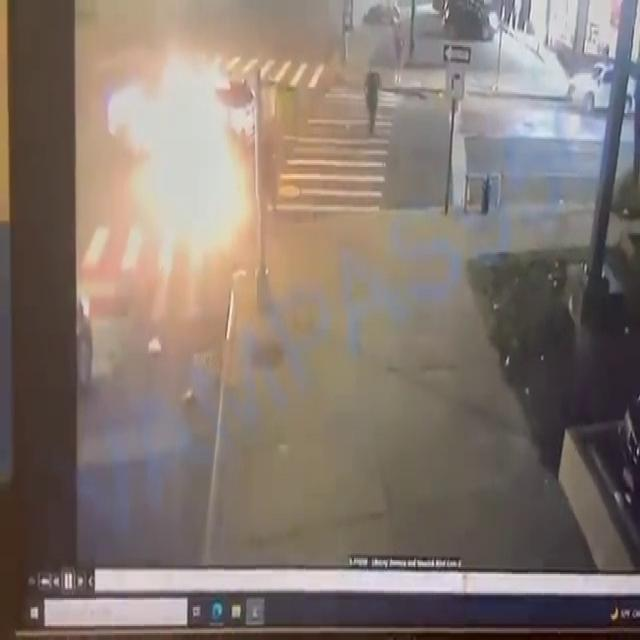Fire: (107, 73, 250, 266)
